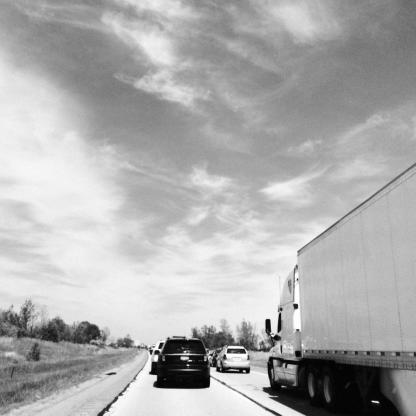Car: (147, 334, 248, 387)
Truck: (272, 177, 407, 415)
